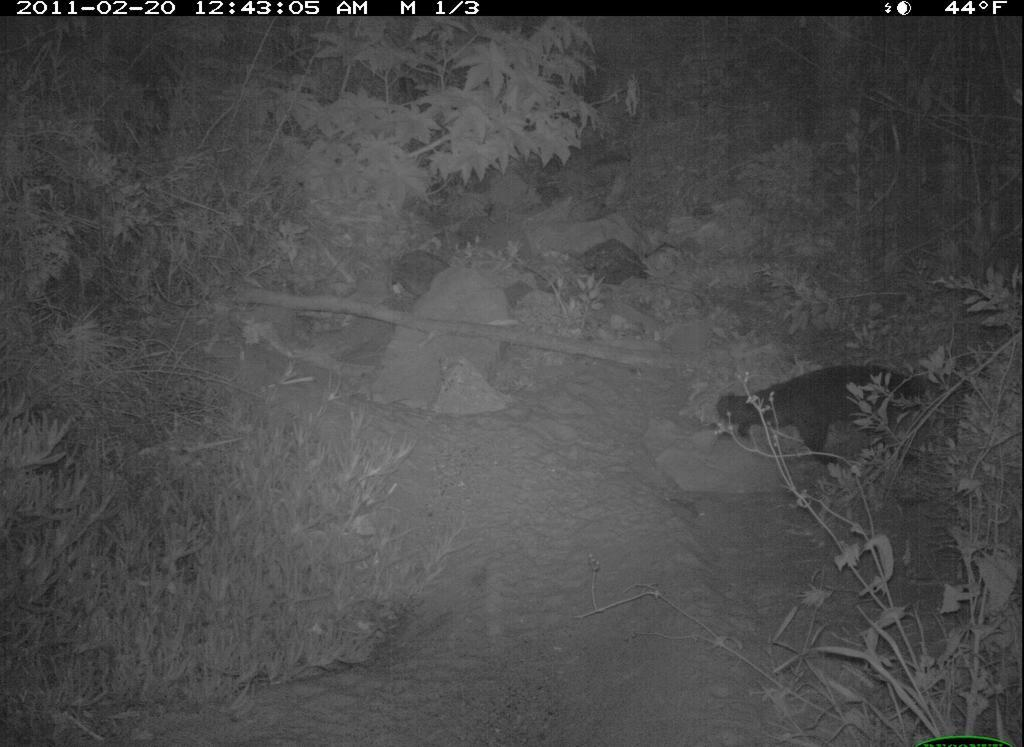cat: (710, 358, 943, 478)
